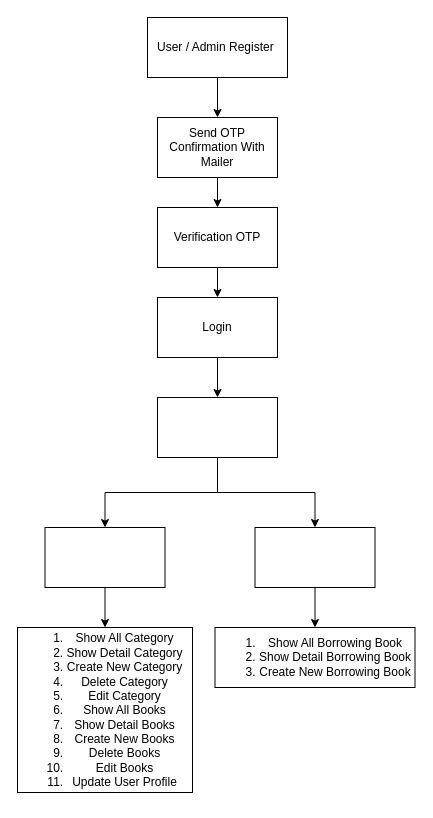
This 433x818 diagram has some shape labels left out. Each missing label, with the centre of its shape:
"As Admin" goes at [104,557].
"As User" goes at [314,557].
"Token" goes at [217,427].
